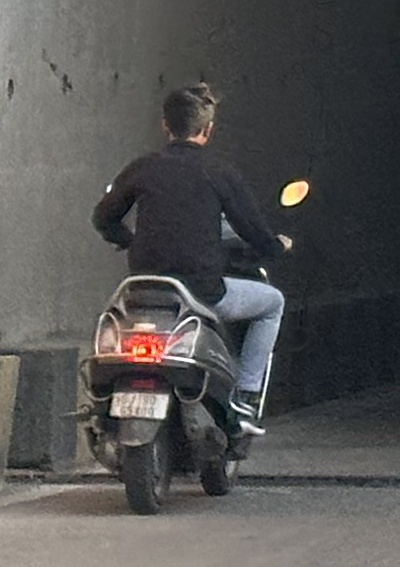BikeWithRider: (70, 65, 334, 522)
NoHelmet: (156, 73, 222, 157)
